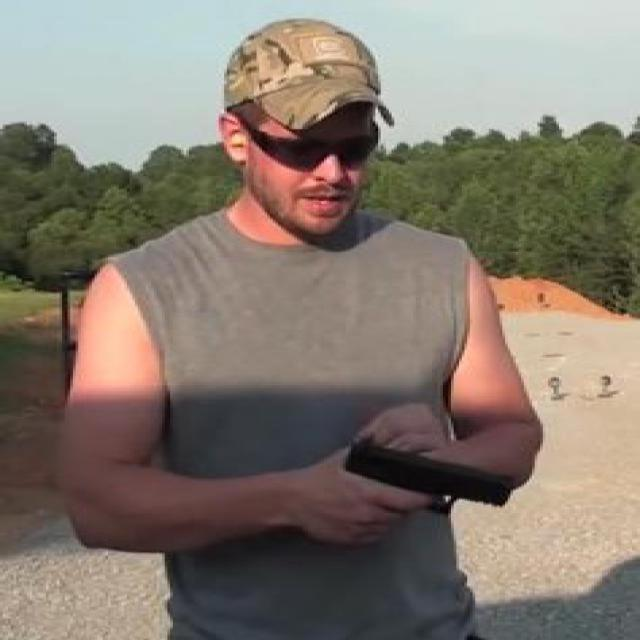weapon: (342, 433, 510, 516)
